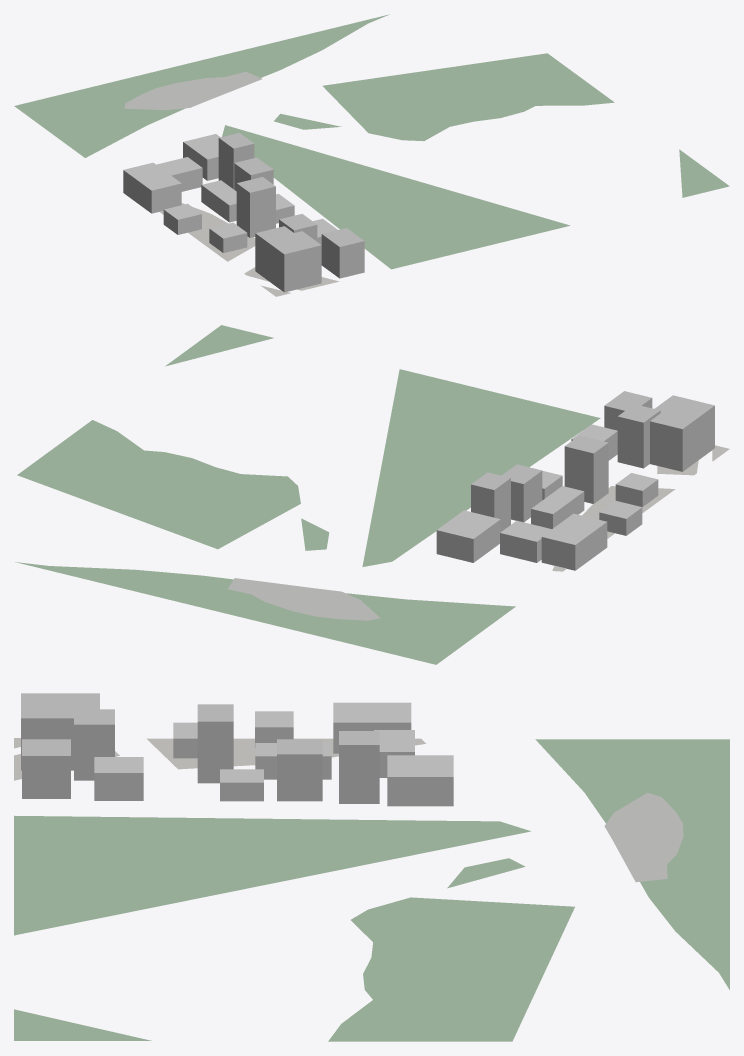
Rendered from 93_104_mid.glb.
3 renders of one model, top to bottom at view 1: azimuth 30°, elevation 25°; view 2: azimuth 150°, elevation 25°; view 3: azimuth 270°, elevation 25°, orthographic. The views are drawn at different scales.
Bounding box in the file's own units: 511 × 48.16 × 500.
